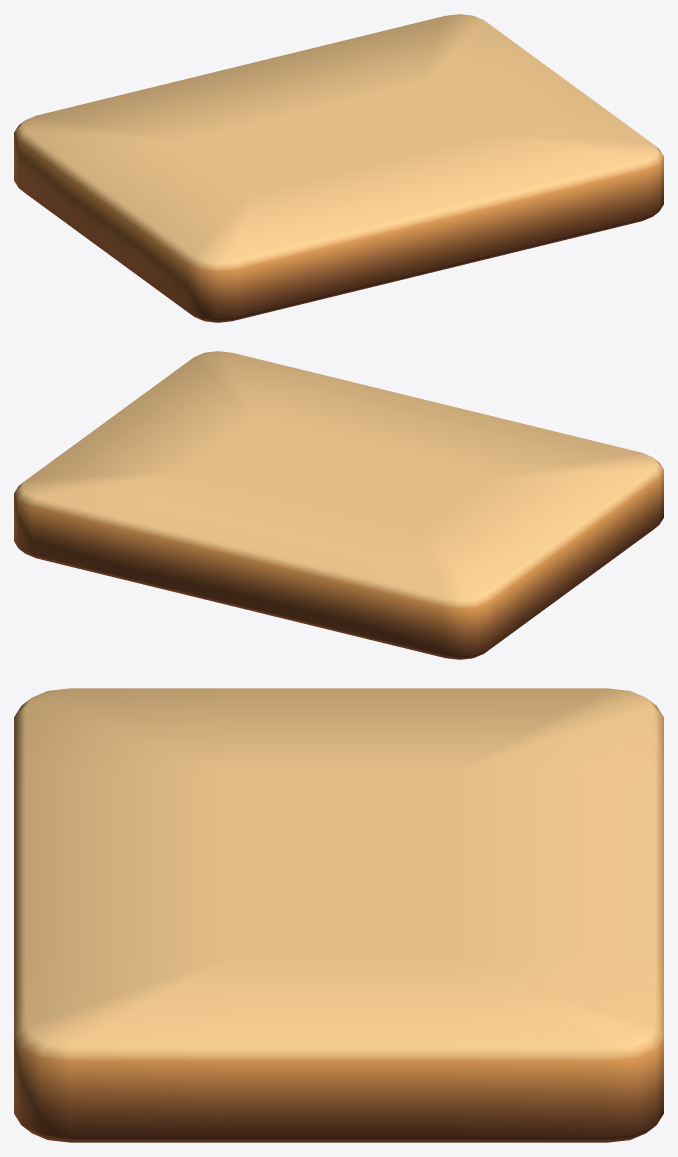
Rendered from m_Brownie03.fbx.
3 views of the same model, one above another, from view 1: azimuth 30°, elevation 25°; view 2: azimuth 150°, elevation 25°; view 3: azimuth 270°, elevation 25° (orthographic). The views are drawn at different scales.
Parts seen in each view (by area): view 1: m_Brownie03; view 2: m_Brownie03; view 3: m_Brownie03.
Part boxes in pixels (left/top/right/bottom): m_Brownie03: left=14, top=14, right=663, bottom=322; m_Brownie03: left=14, top=351, right=663, bottom=659; m_Brownie03: left=14, top=688, right=663, bottom=1142.
Bounding box in the file's own units: 40 × 5 × 30.
